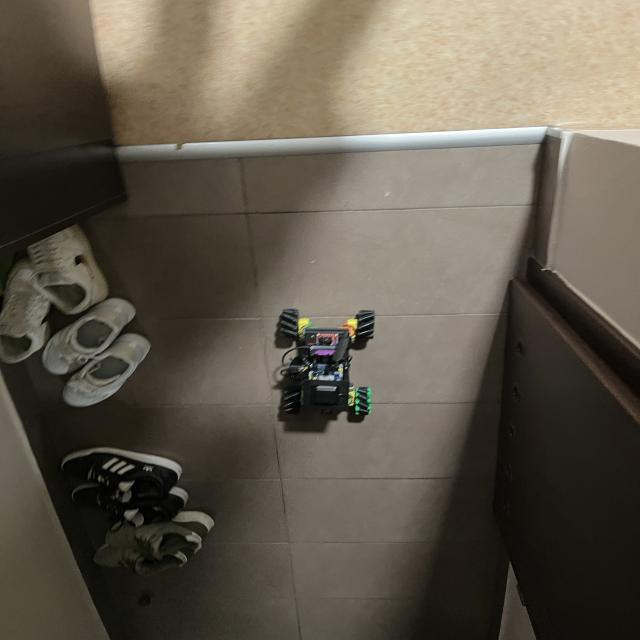robot: (278, 309, 375, 416)
